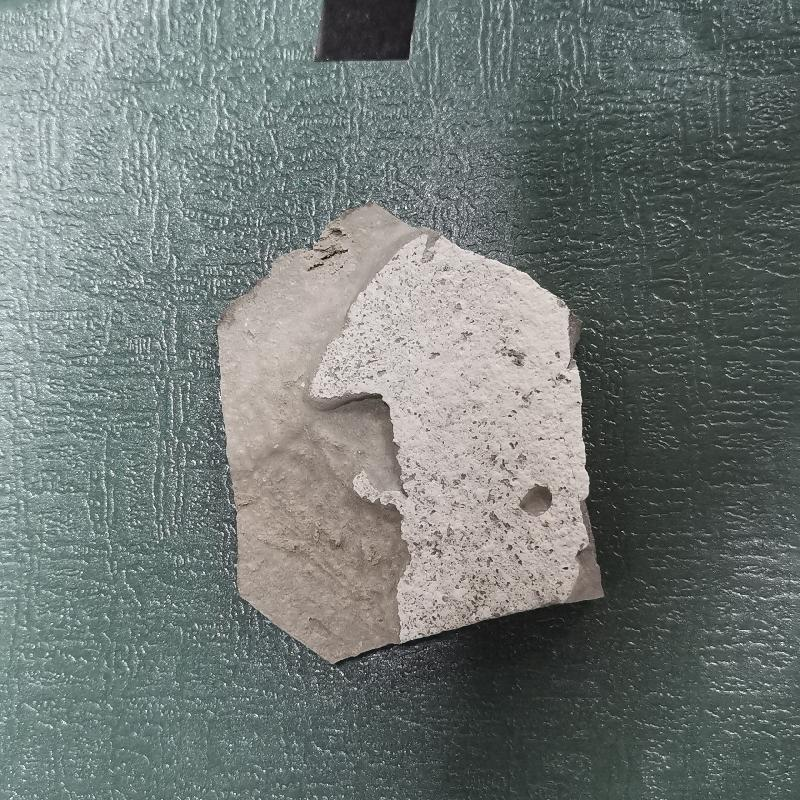tile: (199, 198, 651, 684)
